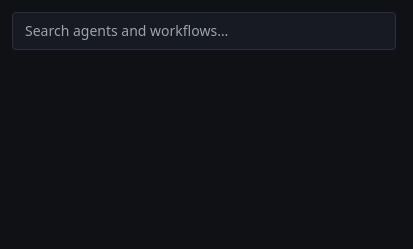
Test: SearchBox › groups results and navigates to an agent on Enter
Later steps or results of the test are not shown.
Type "support" into the dropdown at (204,31), box left=12, top=12, right=396, bottom=50
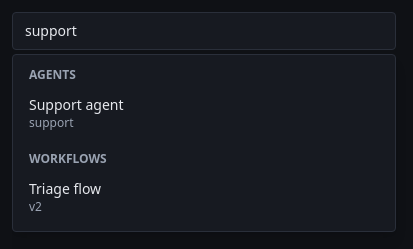
Now the element "agents" is shown, box left=21, top=63, right=387, bottom=139
Now the element "workflows" is shown, box left=21, top=147, right=387, bottom=223
